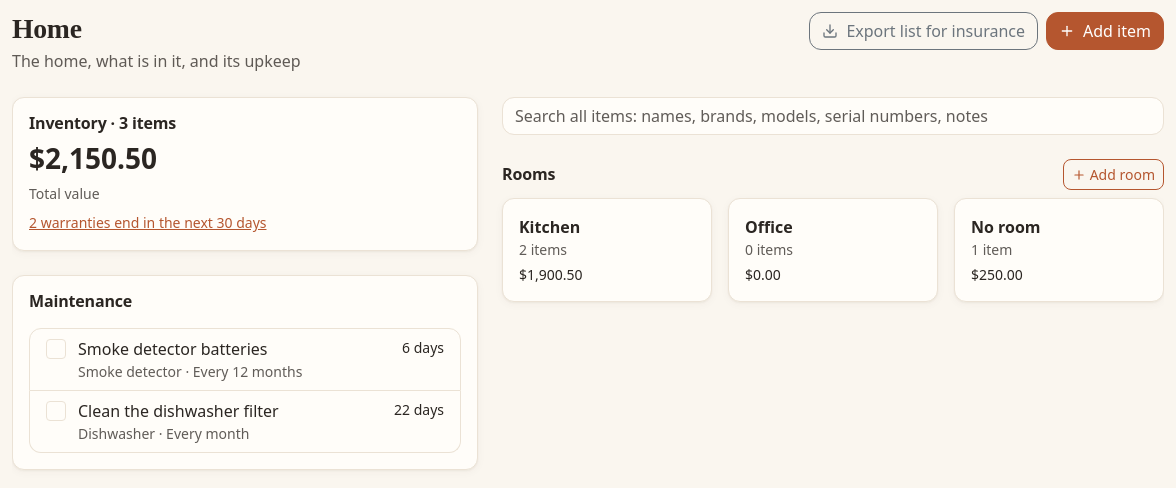
Test: HomePageComponent › for a user who can write › puts a typed search in the address
The image size is (1176, 488).
Replace the text in the search field with id "home-search" with "tv". click: x=833, y=116
box: [502,97,1164,135]
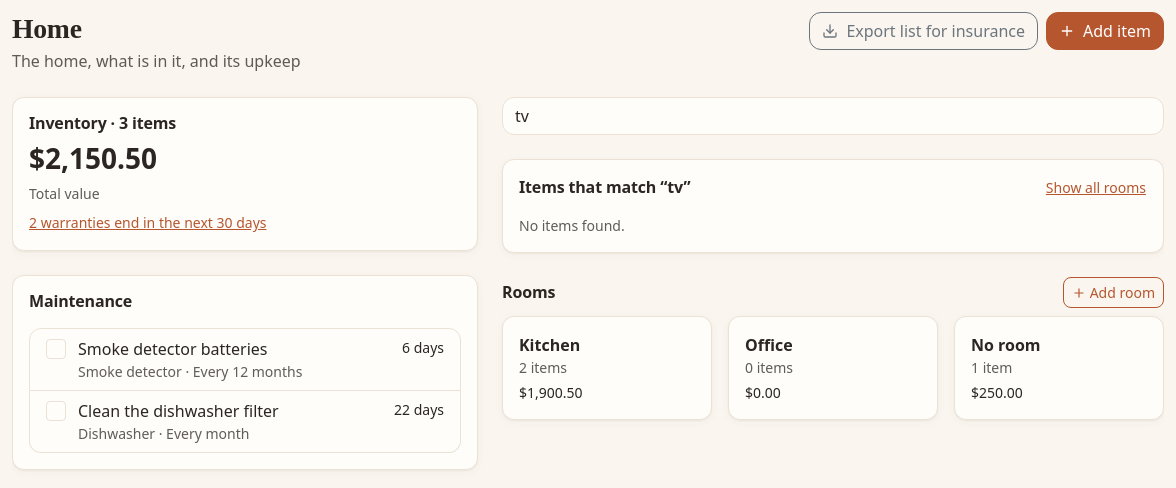
Check: the text "No items found." is shown, box [519,216,625,235]
